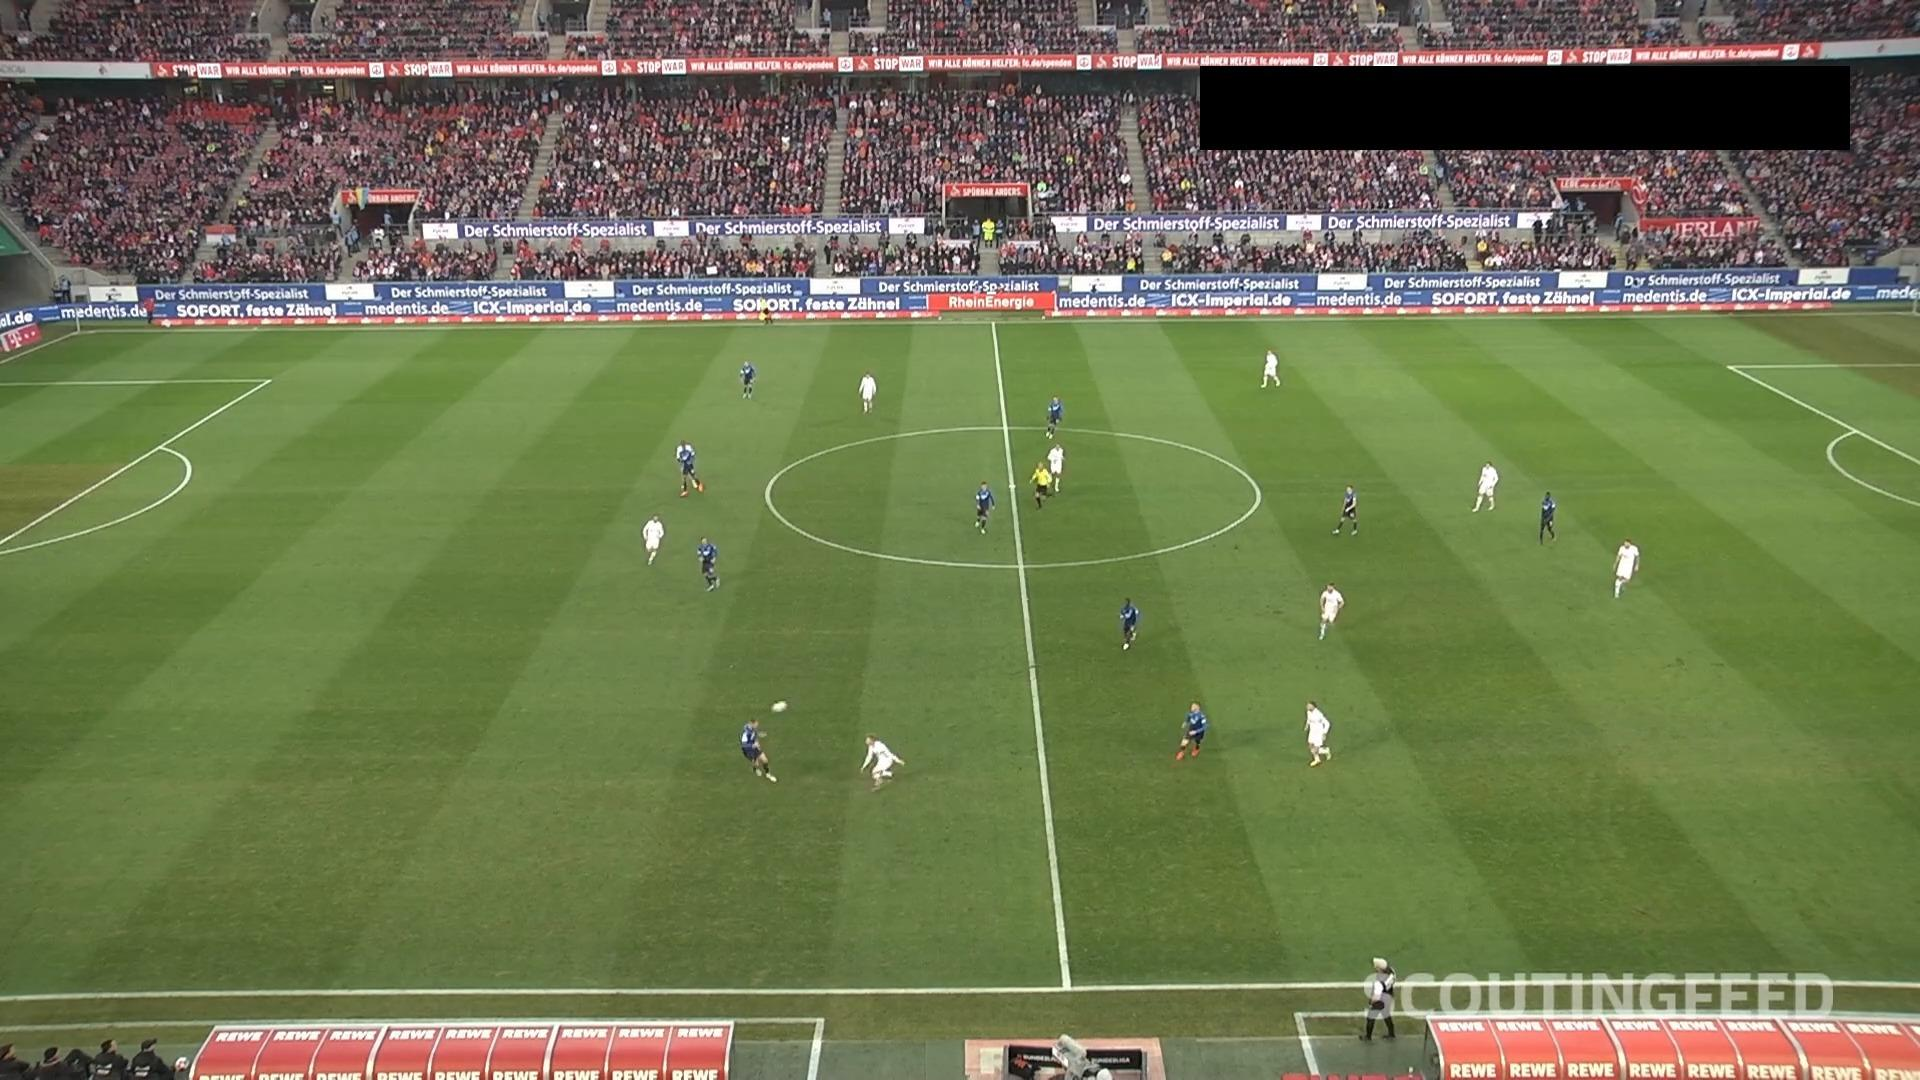ball: (769, 699, 789, 715)
